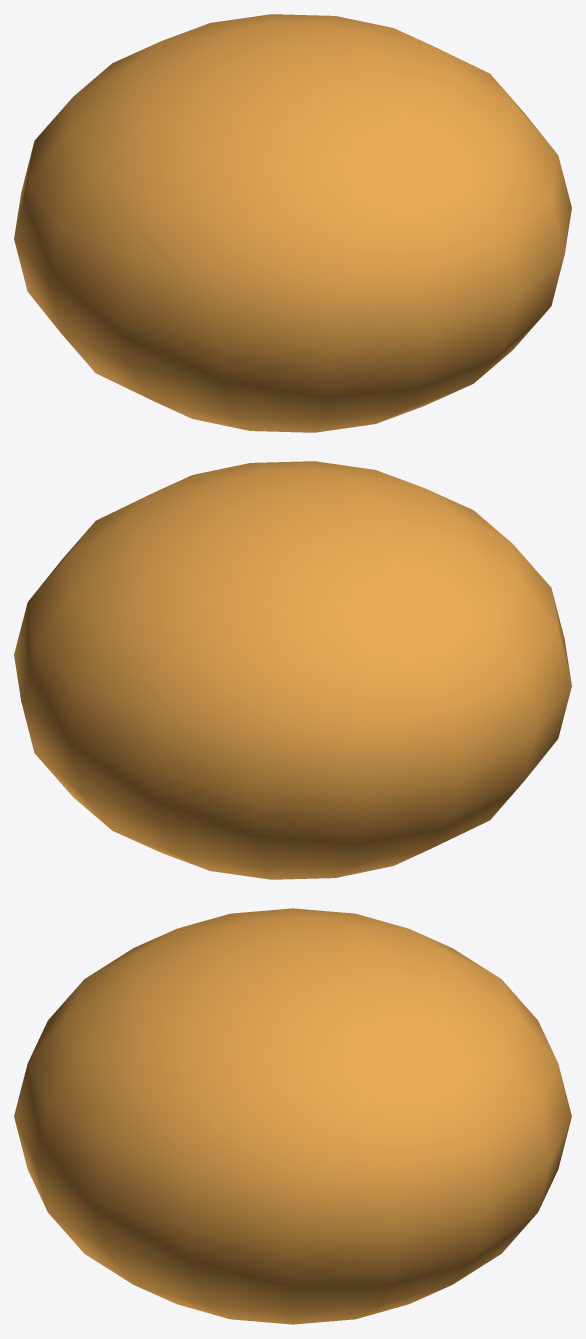
The model's file is bun.glb.
3 renders of one model, top to bottom at view 1: azimuth 30°, elevation 25°; view 2: azimuth 150°, elevation 25°; view 3: azimuth 270°, elevation 25°, orthographic.
Parts seen in each view (by area): view 1: bun; view 2: bun; view 3: bun.
Boxes of the visible parts, x1=… form: bun: x1=14, y1=14, x2=571, y2=432; bun: x1=14, y1=461, x2=571, y2=879; bun: x1=14, y1=908, x2=571, y2=1324.
Size of the model in its own units: 0.56 by 0.38 by 0.56.
